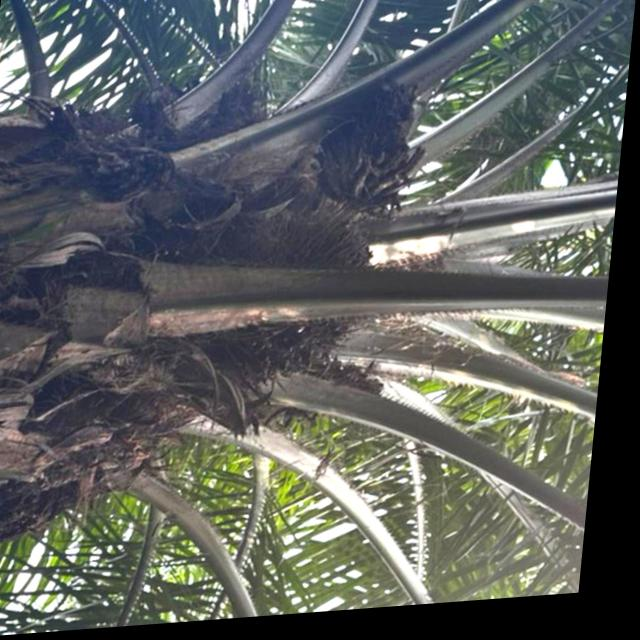almost: (223, 216, 389, 390)
